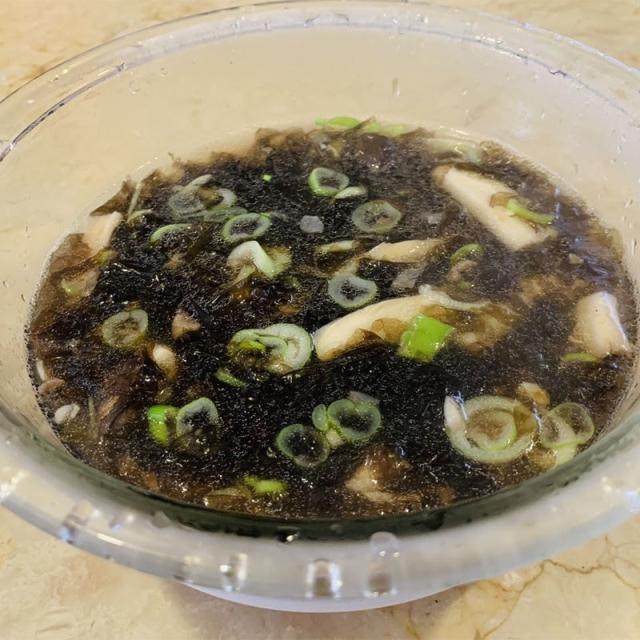canh rong bien: (0, 117, 639, 565)
rau: (0, 116, 639, 609)
